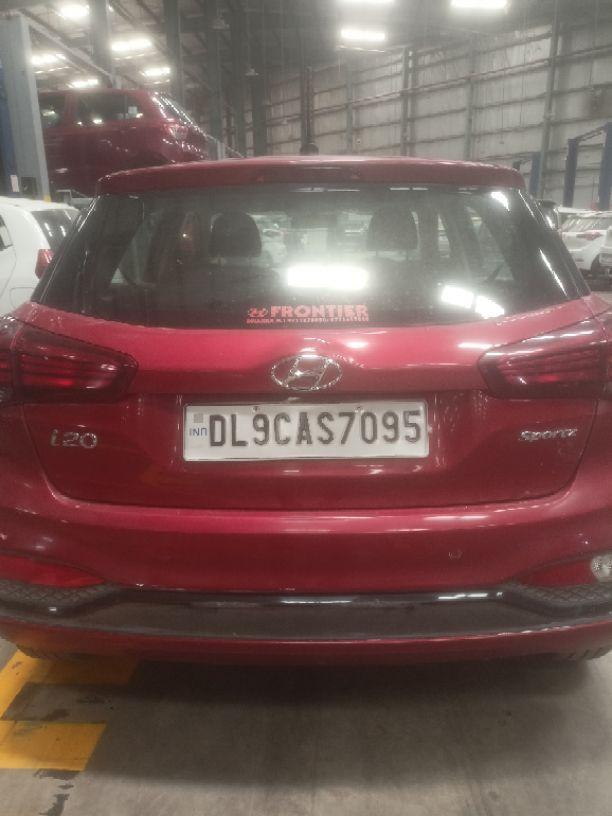license_plate: (181, 397, 430, 462)
